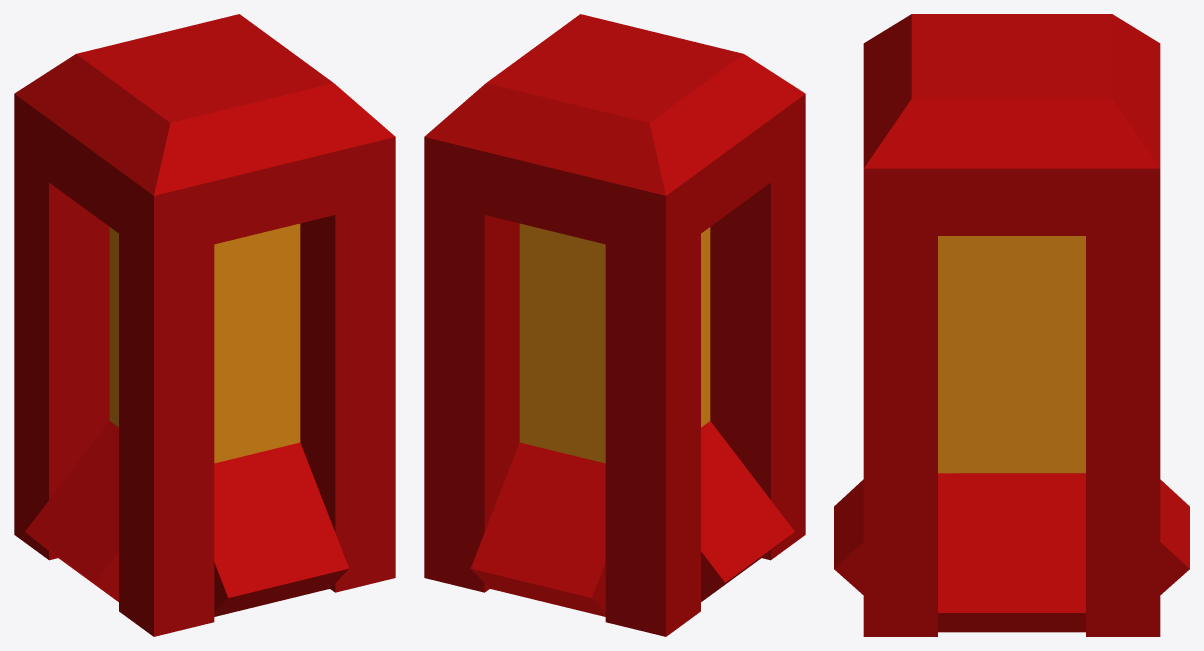
File: groundlamp.fbx
3 renders of one model, left to right at view 1: azimuth 30°, elevation 25°; view 2: azimuth 150°, elevation 25°; view 3: azimuth 270°, elevation 25°, orthographic. The views are drawn at different scales.
Parts seen in each view (by area): view 1: pCube18, pCube20; view 2: pCube18, pCube20; view 3: pCube18, pCube20.
Boxes of the visible parts, left/top/right/bottom form: pCube18: left=14, top=14, right=395, bottom=636; pCube20: left=109, top=223, right=300, bottom=463; pCube18: left=424, top=14, right=805, bottom=636; pCube20: left=519, top=223, right=710, bottom=463; pCube18: left=834, top=14, right=1189, bottom=636; pCube20: left=938, top=236, right=1085, bottom=473.
Size of the model in its own units: 1.2 by 1.93 by 1.2.
